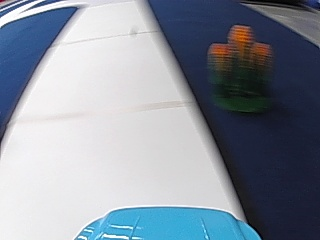corn: (205, 22, 274, 105)
